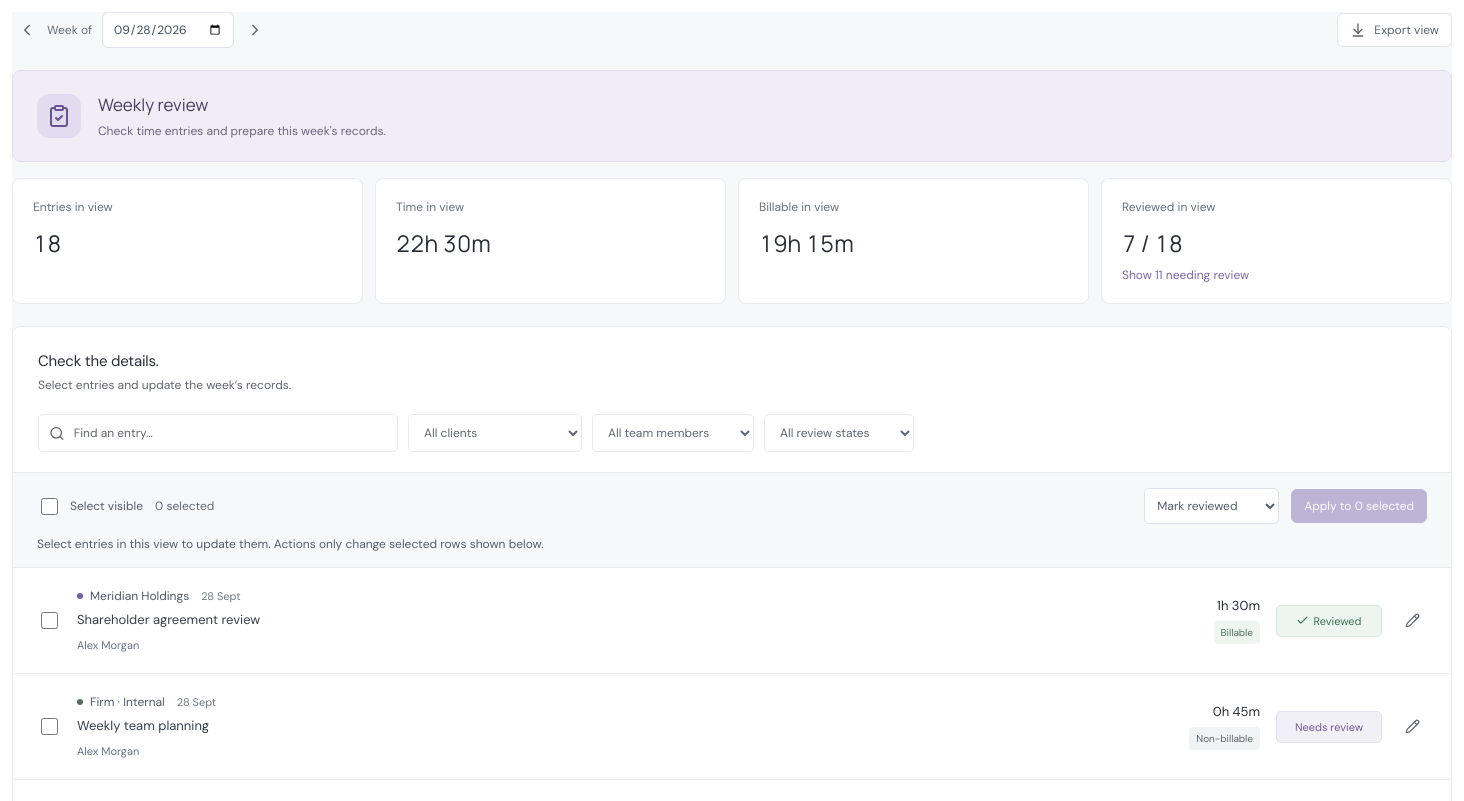
Scenario: Selection scope › keeps selected rows that are still in view when narrowing
This screenshot has width=1464, height=801.
Click the checkbox named "Select Shareholder agreement review".
click(50, 620)  # box [41, 612, 58, 628]
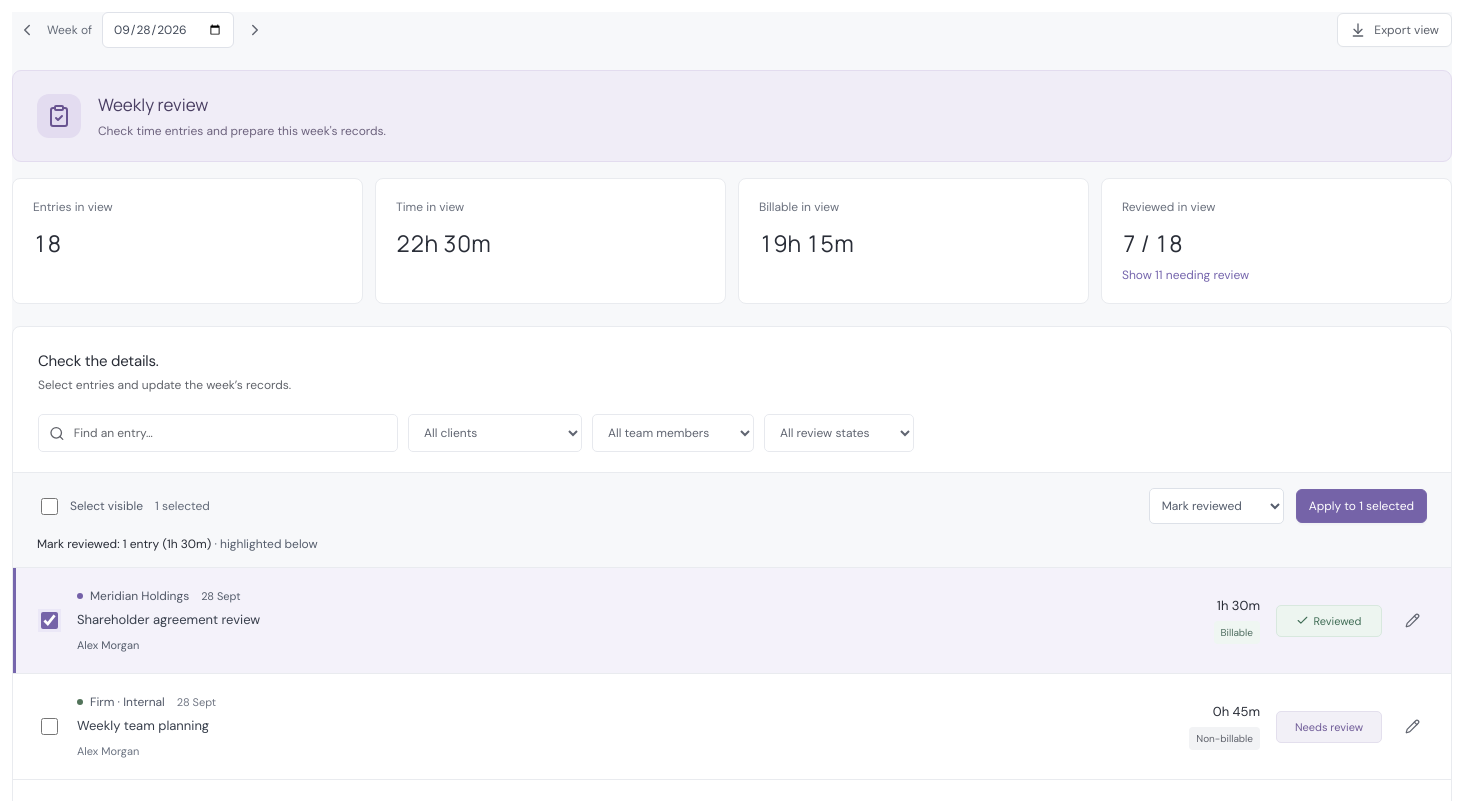
Click the checkbox named "Select Weekly team planning".
click(50, 726)  # box [41, 718, 58, 734]
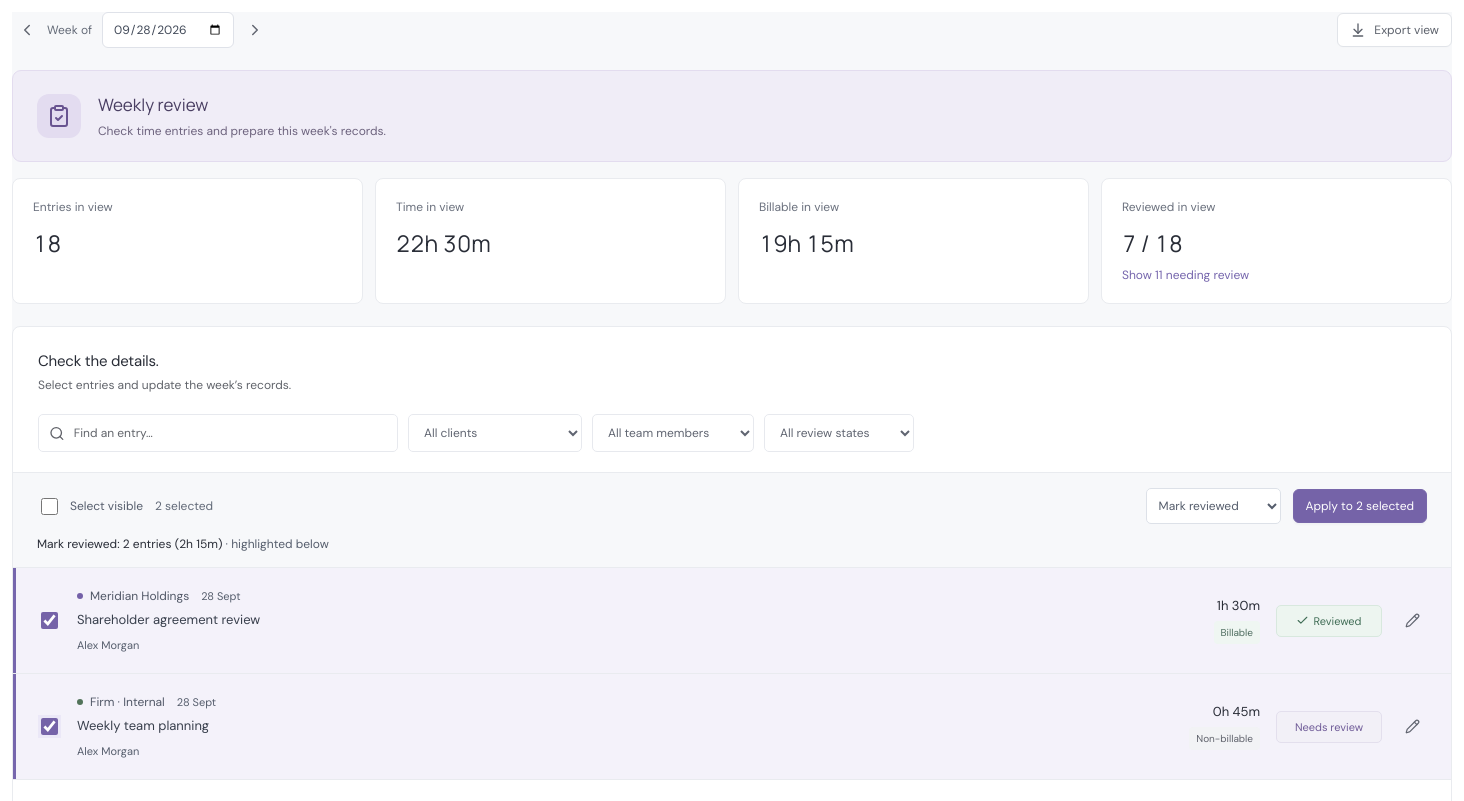
Select "Meridian Holdings" in the dropdown named "Review client" at x=495, y=433, box [408, 414, 582, 452]
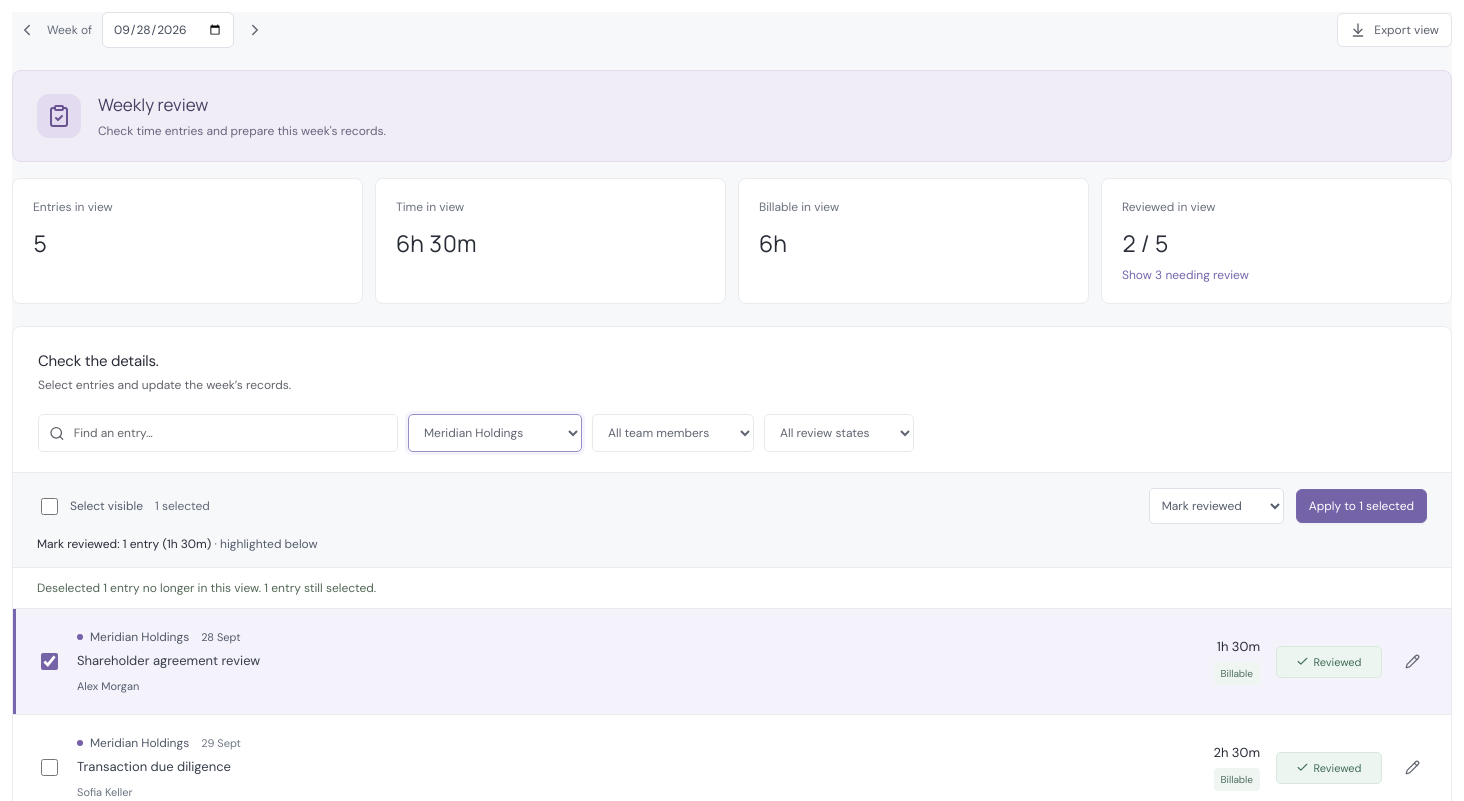
Expected: the checkbox named "Select Shareholder agreement review" is checked, [41, 652, 58, 670]
Expected: the text "1 selected" is shown, [155, 498, 210, 514]
Expected: the text "Deselected 1 entry no longer in this view. 1 entry still selected." is shown, [37, 580, 376, 596]
